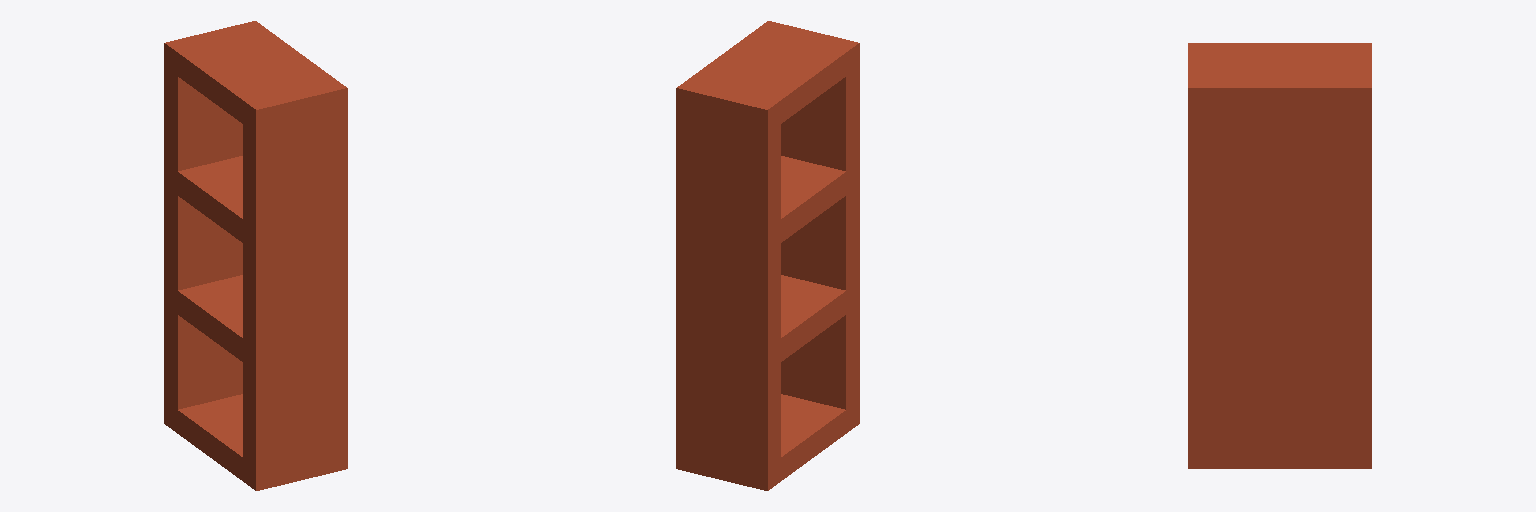
Rendered from Bookcase.obj.
3 views of the same model, side by side, from view 1: azimuth 30°, elevation 25°; view 2: azimuth 150°, elevation 25°; view 3: azimuth 270°, elevation 25° (orthographic).
Visible parts, largest first — view 1: mergedBlocks; view 2: mergedBlocks; view 3: mergedBlocks.
Part boxes in pixels (bbox=[...]): mergedBlocks: bbox=[164, 21, 347, 490]; mergedBlocks: bbox=[676, 21, 859, 490]; mergedBlocks: bbox=[1188, 43, 1371, 468].
Size of the model in its own units: 0.5 by 2 by 0.875.